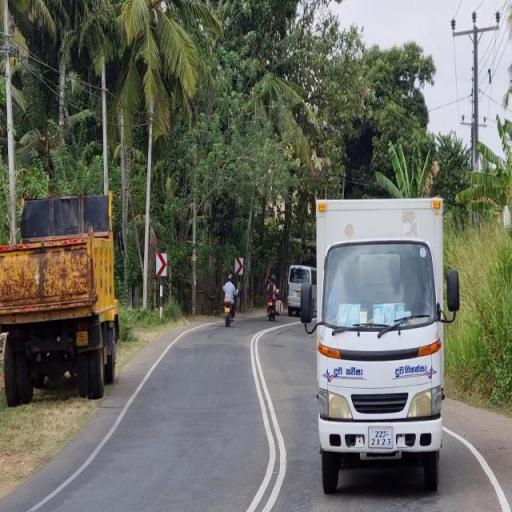double_white_line: (243, 326, 290, 512)
